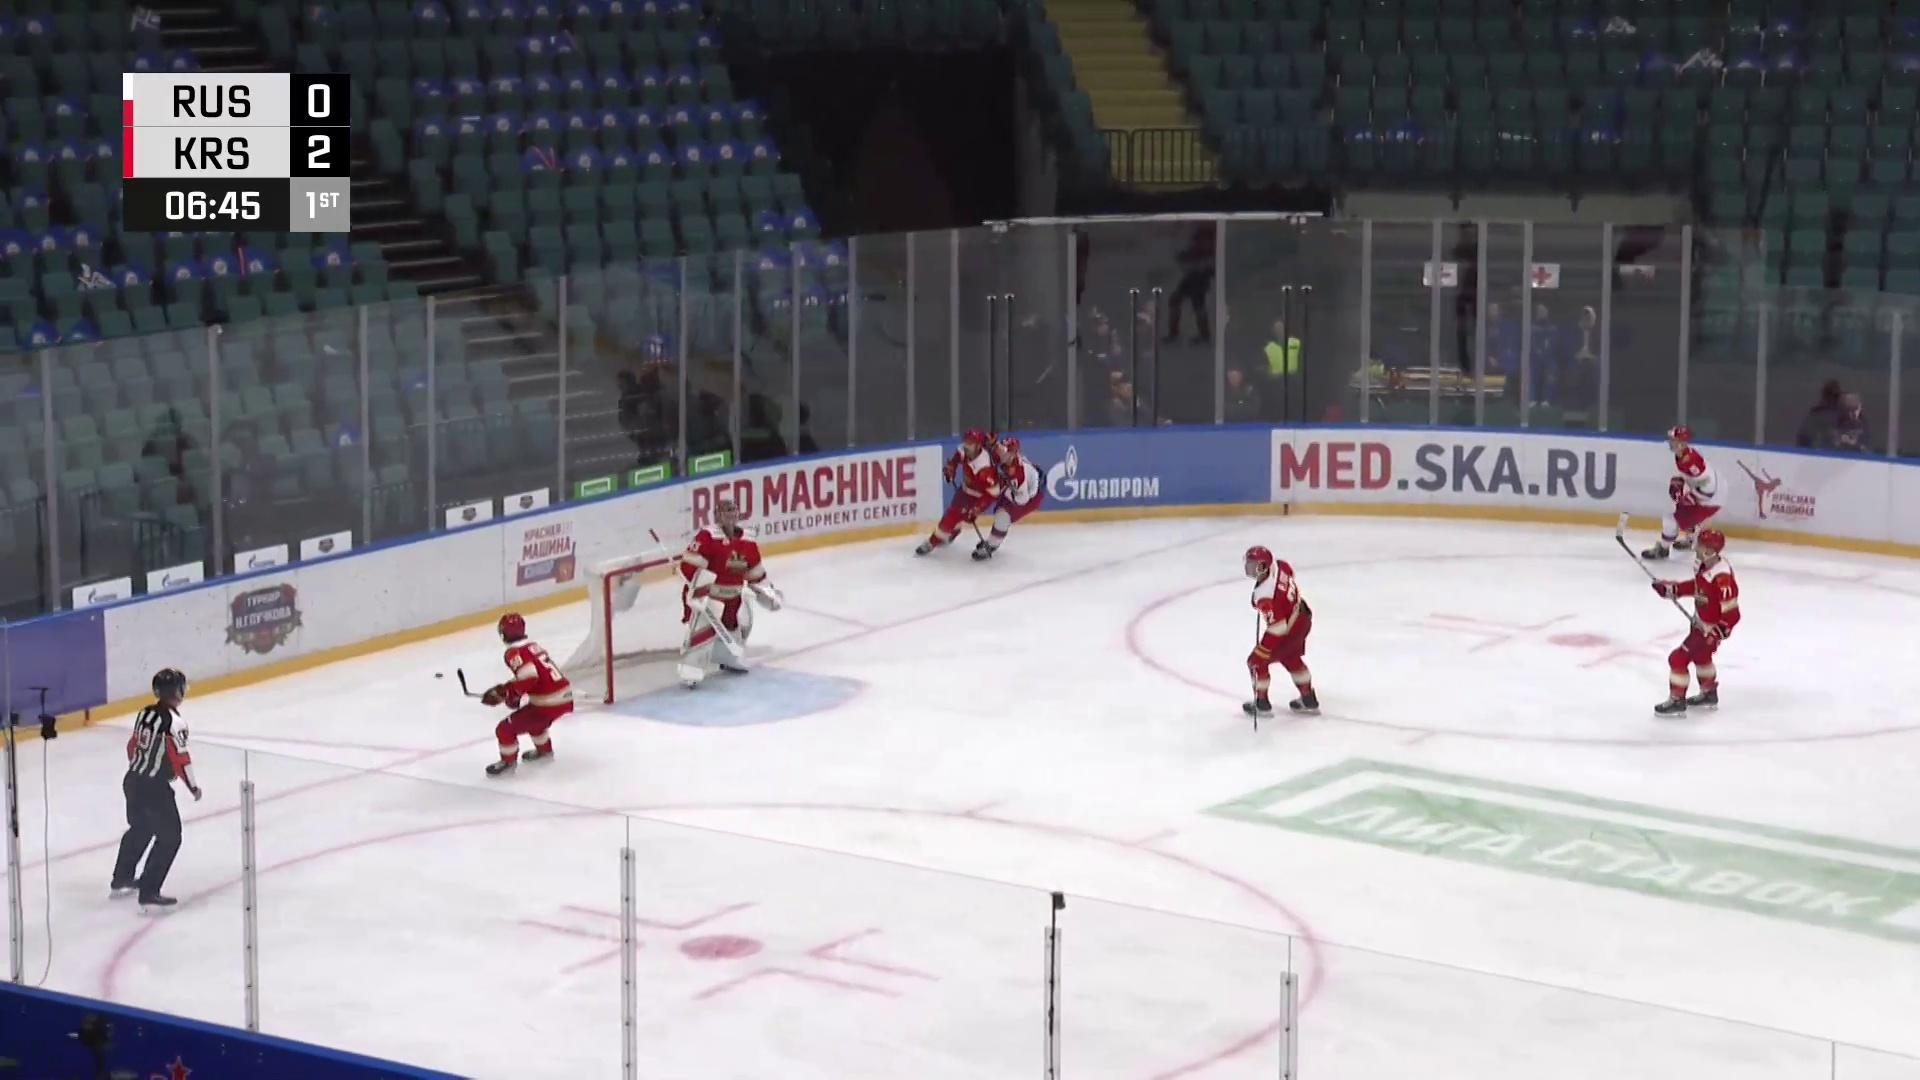ball: (431, 671, 446, 679)
